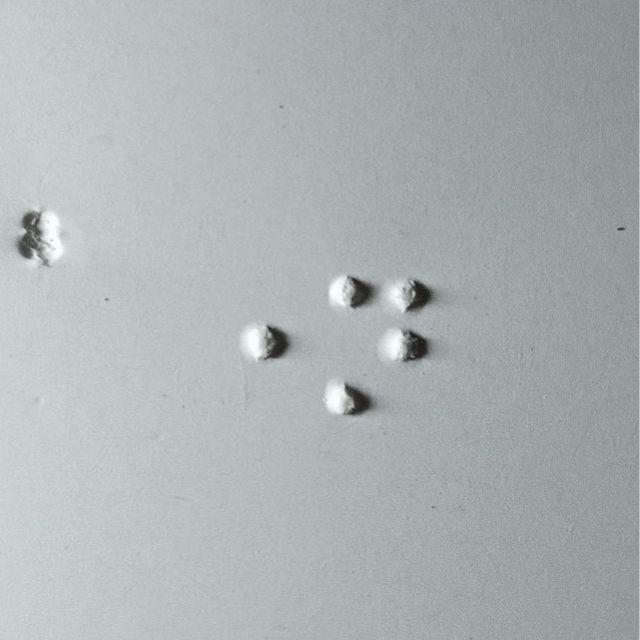dot_5: (181, 275, 288, 418)
noon: (323, 276, 430, 419)
